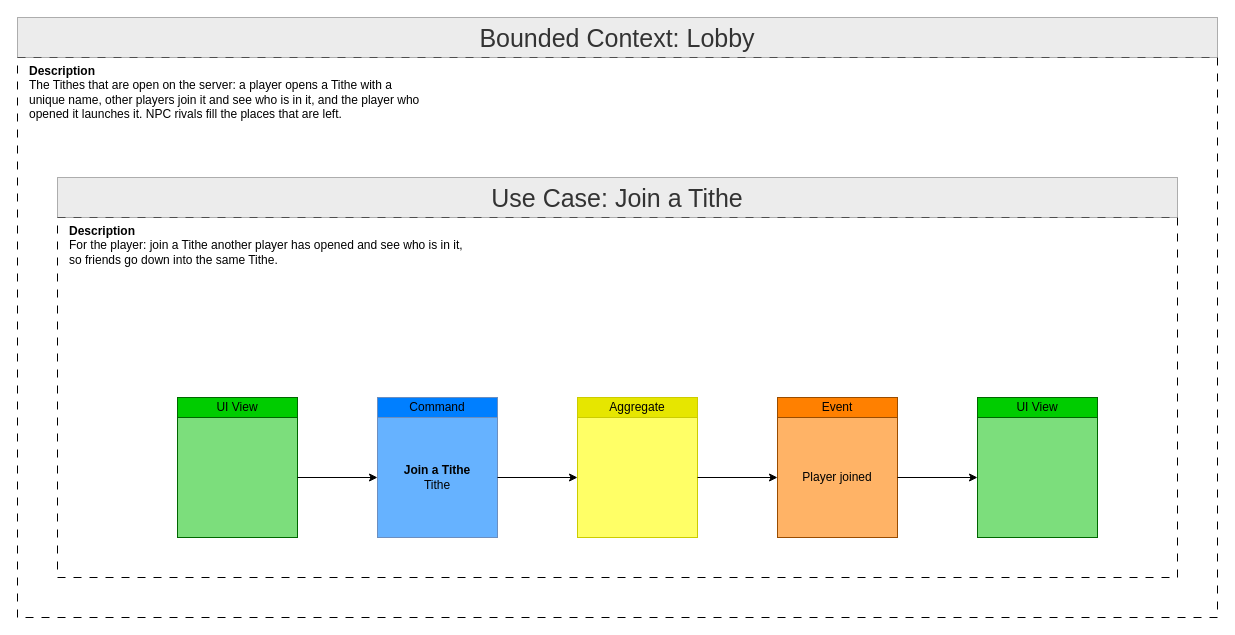
Some shapes in this 1235 by 635 pixel diagram are drawn without their labels. Each missing label, with the centre of its shape:
Lobby Player: pixel 1037 477
Lobby Players (many) · User name · Character: pixel 637 477
Tithes Player: pixel 237 477
